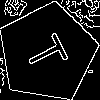T: (22, 28, 77, 75)
